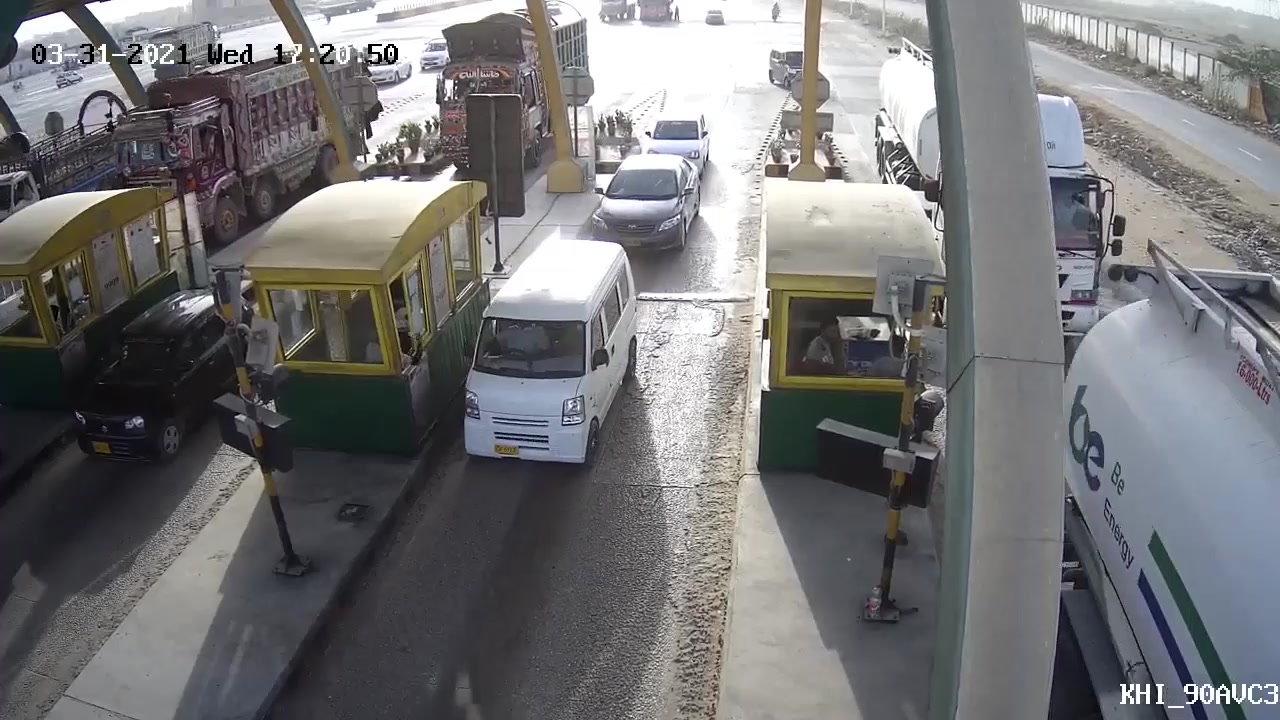F1: (442, 239, 642, 468)
